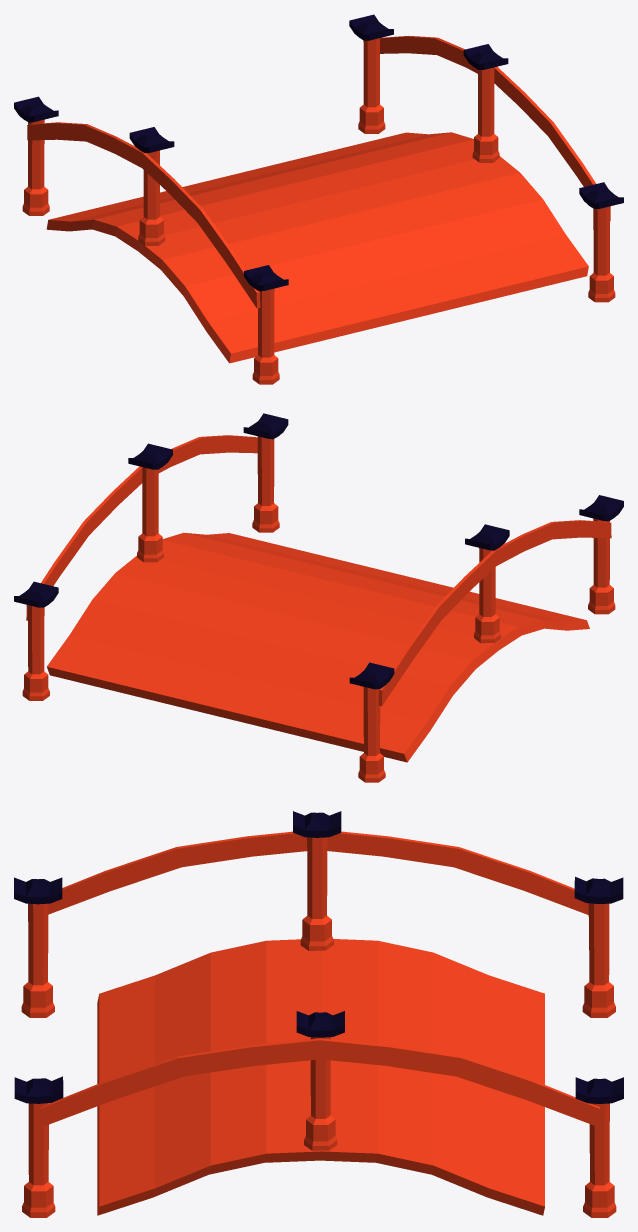
Rendered from Bridge.fbx.
3 views of the same model, one above another, from view 1: azimuth 30°, elevation 25°; view 2: azimuth 150°, elevation 25°; view 3: azimuth 270°, elevation 25° (orthographic). The views are drawn at different scales.
Visible parts, largest first — view 1: Cylinder.001; view 2: Cylinder.001; view 3: Cylinder.001.
Part boxes in pixels (box(x1,y1,x2,y2)): Cylinder.001: box(14, 14, 623, 384); Cylinder.001: box(14, 413, 623, 782); Cylinder.001: box(14, 811, 623, 1217).
Size of the model in its own units: 1263 by 538 by 1517.
